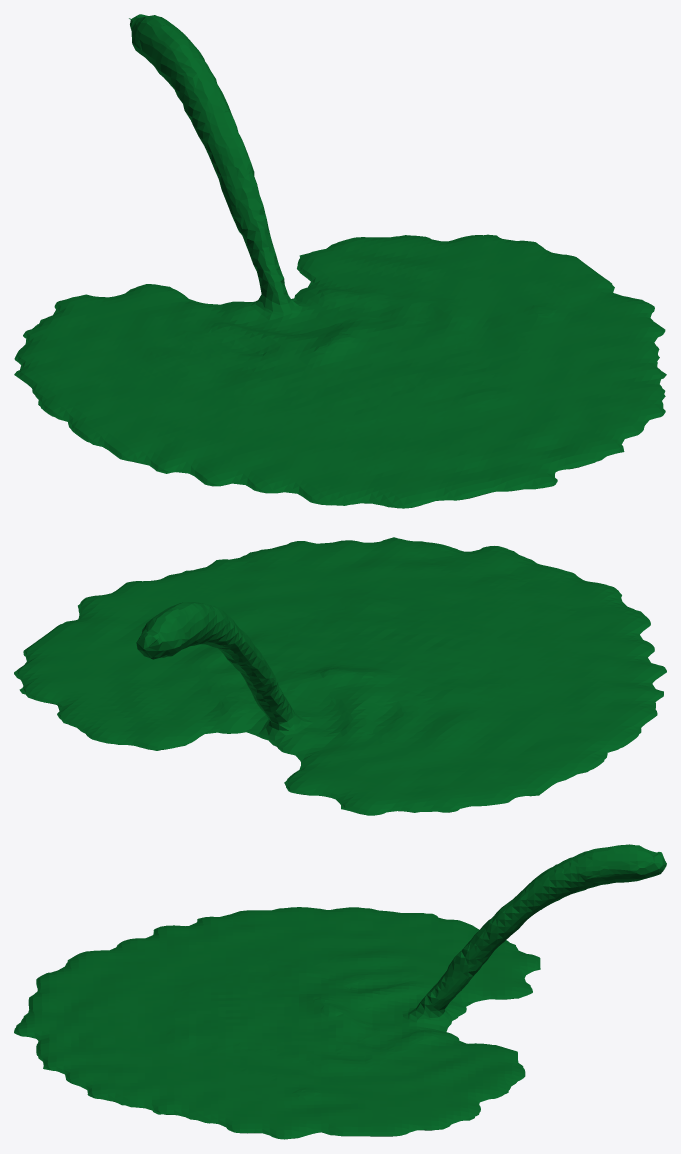
Rendered from fluid_22.fbx.
The picture shows the model from 3 angles, top to bottom: view 1: azimuth 30°, elevation 25°; view 2: azimuth 150°, elevation 25°; view 3: azimuth 270°, elevation 25°; orthographic projection. The views are drawn at different scales.
Visible parts, largest first — view 1: Cube; view 2: Cube; view 3: Cube.
Boxes of the visible parts, x1,y1,x2,y2 form: Cube: (14,14,666,508); Cube: (14,537,666,815); Cube: (14,844,666,1139).
Size of the model in its own units: 489 by 176 by 583.
